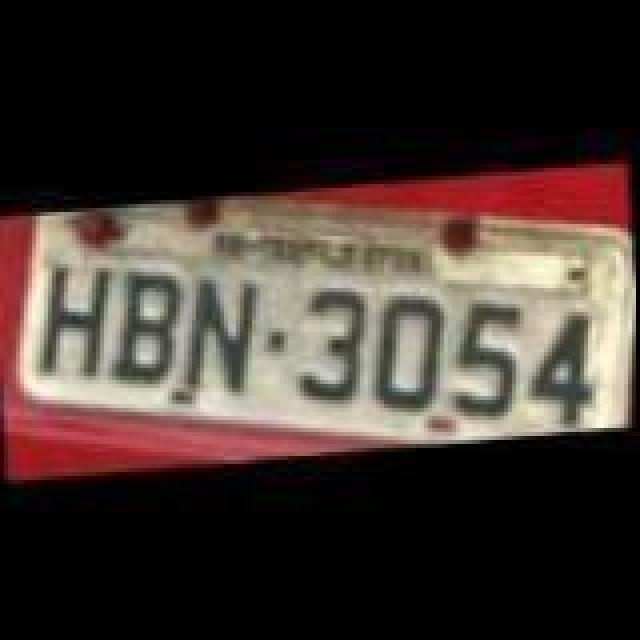3: (290, 280, 382, 408)
4: (524, 306, 604, 430)
5: (436, 290, 532, 418)
B: (96, 262, 192, 386)
H: (26, 260, 126, 388)
N: (170, 268, 270, 400)
O: (366, 288, 458, 412)
